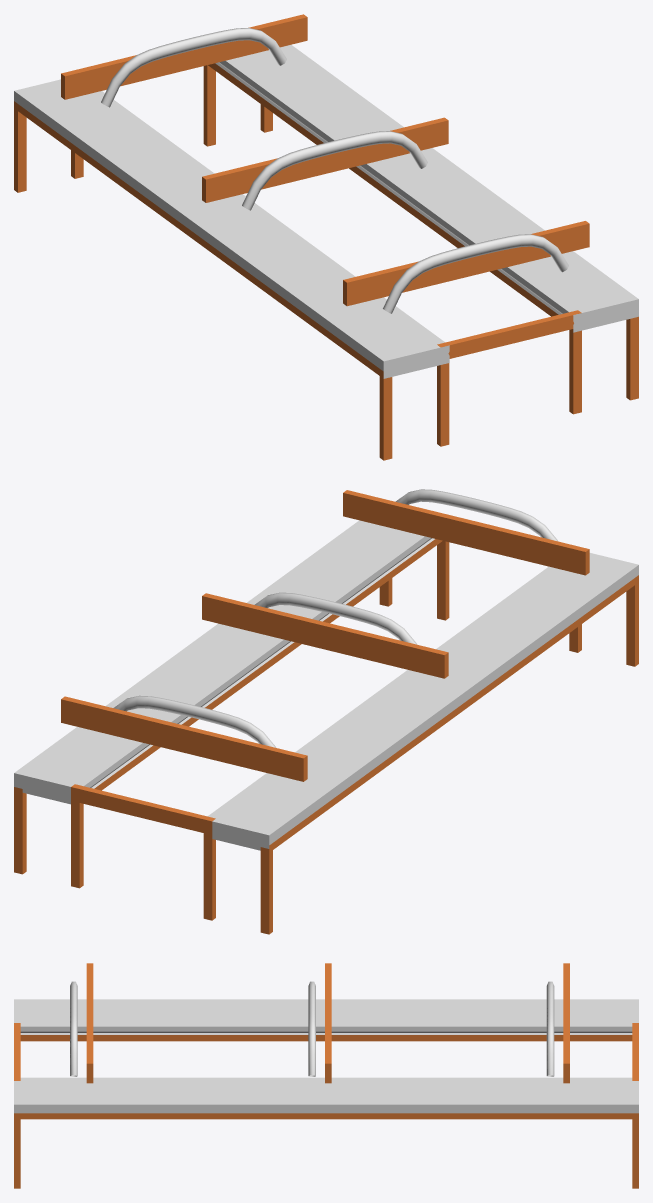
The model's file is Flyover 2.fbx.
3 renders of one model, top to bottom at view 1: azimuth 30°, elevation 25°; view 2: azimuth 150°, elevation 25°; view 3: azimuth 270°, elevation 25°, orthographic. The views are drawn at different scales.
Parts seen in each view (by area): view 1: Cube; view 2: Cube; view 3: Cube.
Part boxes in pixels (x1=…): Cube: x1=14, y1=14, x2=638, y2=460; Cube: x1=14, y1=489, x2=638, y2=934; Cube: x1=14, y1=963, x2=638, y2=1188.
Size of the model in its own units: 69.22 by 41.15 by 174.
